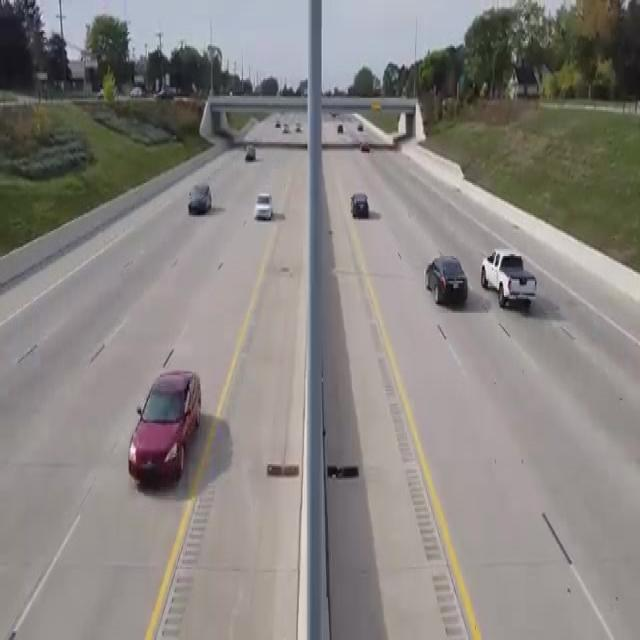car: (131, 355, 203, 490)
van: (478, 240, 548, 316)
